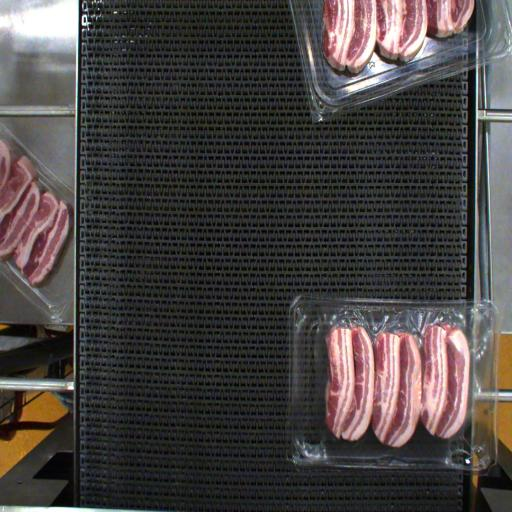unsealed: (315, 300, 500, 478)
